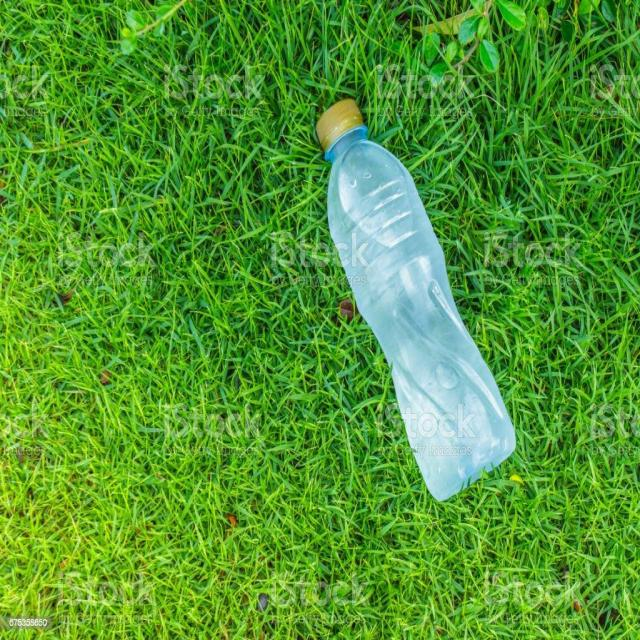bottle: (306, 99, 522, 502)
